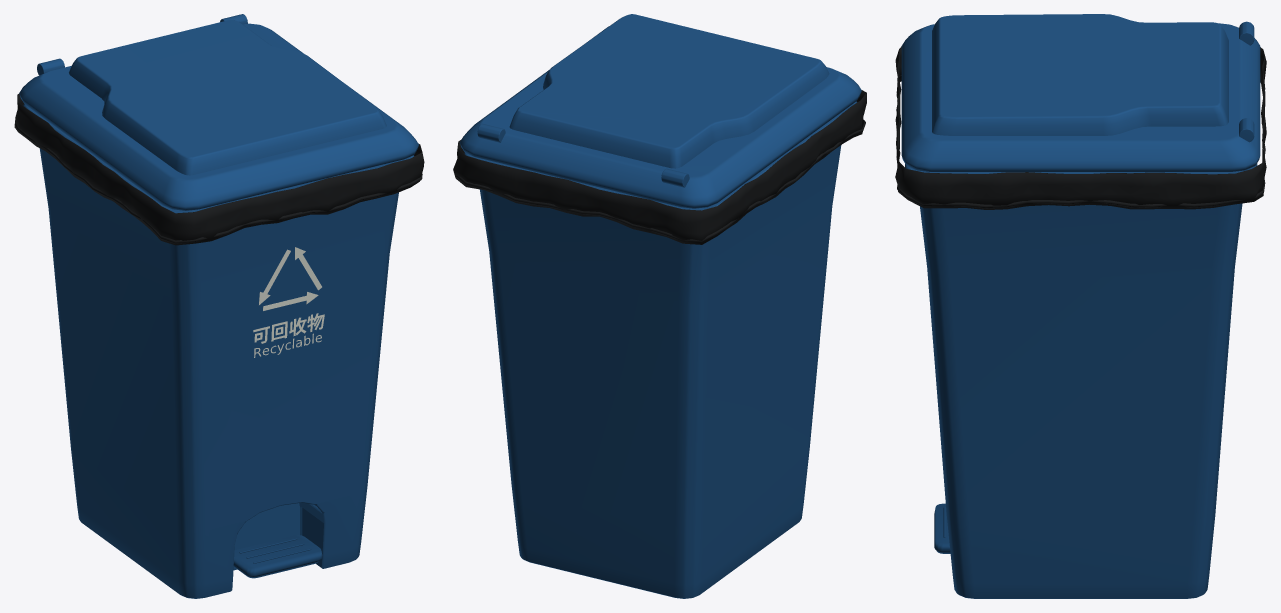
Rendered from lod2_source.glb.
The picture shows the model from 3 angles, left to right: view 1: azimuth 30°, elevation 25°; view 2: azimuth 150°, elevation 25°; view 3: azimuth 270°, elevation 25°; orthographic projection. The views are drawn at different scales.
Parts seen in each view (by area): view 1: Continuous tapered rounded bin shell, Lid raised deck with stepped rear shoulders, Shaped lid lip and sloping outer shoulder, Irregular black liner folded over the upper rim, Recessed rounded front foot pedal, Soft folded lower edge of the liner, Molded collar below the folded liner, Visible Chinese category print; view 2: Continuous tapered rounded bin shell, Lid raised deck with stepped rear shoulders, Shaped lid lip and sloping outer shoulder, Irregular black liner folded over the upper rim, Soft folded lower edge of the liner, Molded collar below the folded liner; view 3: Continuous tapered rounded bin shell, Lid raised deck with stepped rear shoulders, Shaped lid lip and sloping outer shoulder, Irregular black liner folded over the upper rim, Soft folded lower edge of the liner, Recessed rounded front foot pedal, Molded collar below the folded liner.
Part boxes in pixels (left/top/right/bottom): Continuous tapered rounded bin shell: left=39, top=148, right=398, bottom=598; Lid raised deck with stepped rear shoulders: left=69, top=19, right=386, bottom=175; Shaped lid lip and sloping outer shoulder: left=19, top=23, right=418, bottom=210; Irregular black liner folded over the upper rim: left=14, top=93, right=424, bottom=245; Recessed rounded front foot pedal: left=233, top=535, right=322, bottom=578; Soft folded lower edge of the liner: left=15, top=123, right=422, bottom=243; Molded collar below the folded liner: left=23, top=104, right=414, bottom=213; Visible Chinese category print: left=253, top=313, right=324, bottom=343; Continuous tapered rounded bin shell: left=479, top=145, right=841, bottom=598; Lid raised deck with stepped rear shoulders: left=509, top=14, right=829, bottom=168; Shaped lid lip and sloping outer shoulder: left=459, top=26, right=861, bottom=208; Irregular black liner folded over the upper rim: left=453, top=90, right=866, bottom=244; Soft folded lower edge of the liner: left=456, top=119, right=865, bottom=241; Molded collar below the folded liner: left=464, top=101, right=857, bottom=210; Continuous tapered rounded bin shell: left=920, top=203, right=1242, bottom=598; Lid raised deck with stepped rear shoulders: left=932, top=14, right=1228, bottom=135; Shaped lid lip and sloping outer shoulder: left=901, top=23, right=1260, bottom=171; Irregular black liner folded over the upper rim: left=895, top=46, right=1266, bottom=209; Soft folded lower edge of the liner: left=896, top=75, right=1265, bottom=208; Recessed rounded front foot pedal: left=934, top=503, right=950, bottom=553; Molded collar below the folded liner: left=905, top=163, right=1257, bottom=174.
Size of the model in its own units: 0.5013 by 0.824 by 0.5673.
